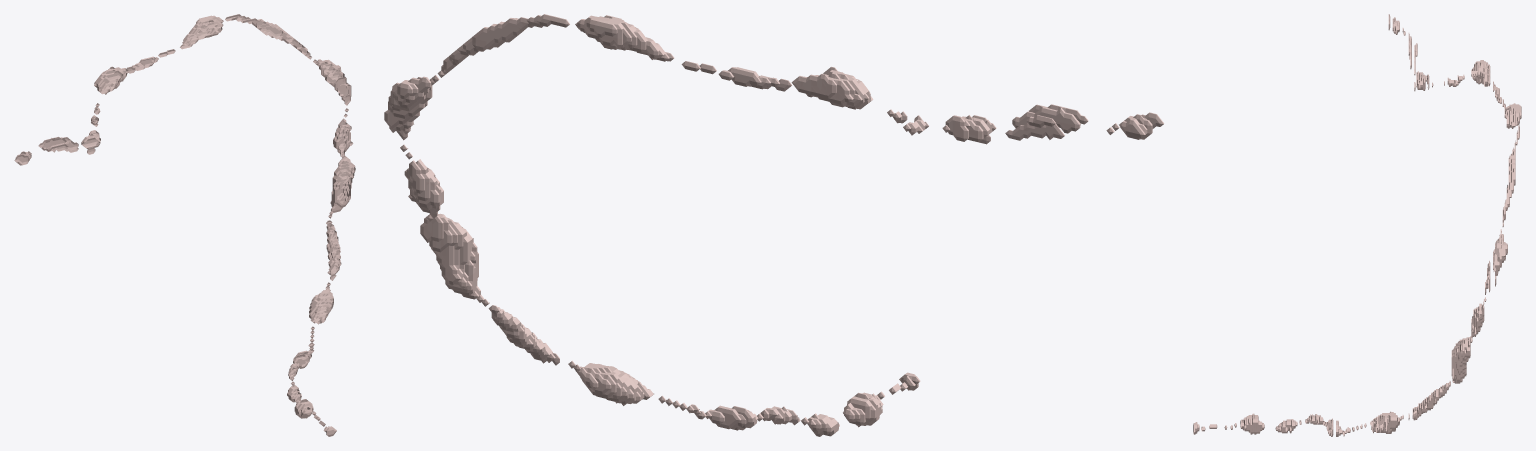
Rendered from SVV_AVHL.gltf.
3 views of the same model, side by side, from view 1: azimuth 30°, elevation 25°; view 2: azimuth 150°, elevation 25°; view 3: azimuth 270°, elevation 25° (orthographic). The views are drawn at different scales.
Visible parts, largest first — view 1: AVHL; view 2: AVHL; view 3: AVHL.
Part boxes in pixels (x1=…): AVHL: x1=14, y1=14, x2=355, y2=436; AVHL: x1=384, y1=14, x2=1164, y2=436; AVHL: x1=1193, y1=14, x2=1521, y2=436.
Size of the model in its own units: 95281 by 72752 by 64281.
